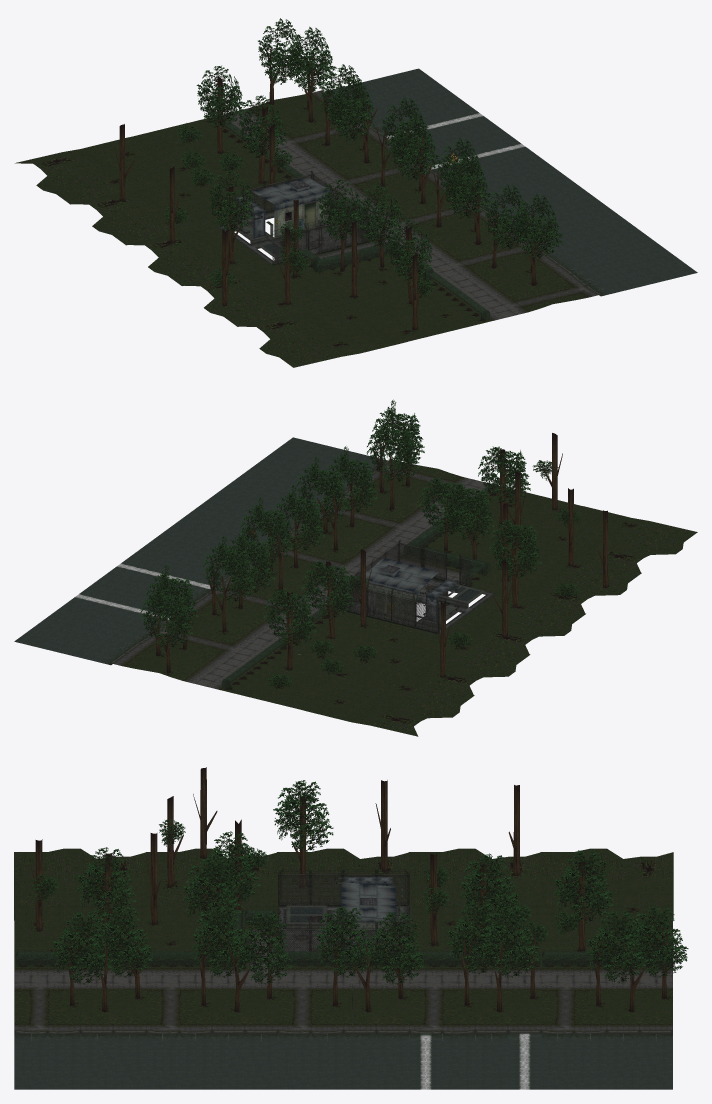
The model's file is THRF9FD.glb.
The picture shows the model from 3 angles, top to bottom: view 1: azimuth 30°, elevation 25°; view 2: azimuth 150°, elevation 25°; view 3: azimuth 270°, elevation 25°; orthographic projection. The views are drawn at different scales.
Parts seen in each view (by area): view 1: 7206_1_H_m0, 7206_1_H#3_m0, 7206_1_H#1_m0, 7206_1_H#2_m0, THR0001_m0, THR0020_m0, 7207_1_B_m0, 7201_1_H_m0, THR0020#3_m0, THR0020#1_m0, THR0001#3_m0, 7201_1_H#1_m0 (+29 smaller); view 2: 7206_1_H#3_m0, 7206_1_H#2_m0, 7207_1_B_m0, 7206_1_H_m0, THR0001#3_m0, 7206_1_H#1_m0, 7201_1_H#1_m0, THR0020#4_m0, THR0020#1_m0, THR7202_m0, THR0001#2_m0, THR0001_m0 (+32 smaller); view 3: THR0001_m0, THR0001#1_m0, THR0002_m0, THR0001#2_m0, THR0001#3_m0, THR0020#3_m0, THR0020_m0, THR0020#1_m0, THR0020#4_m0, THR0020#2_m0, 7206_1_H#3_m0, 7206_1_H_m0 (+41 smaller).
Boxes of the visible parts, x1,y1,x2,y2 form: 7206_1_H_m0: (237, 300, 407, 367); 7206_1_H#3_m0: (15, 137, 183, 204); 7206_1_H#1_m0: (183, 263, 351, 326); 7206_1_H#2_m0: (71, 178, 240, 245); THR0001_m0: (548, 232, 697, 296); THR0020_m0: (449, 253, 600, 317); 7207_1_B_m0: (126, 219, 290, 285); 7201_1_H_m0: (352, 277, 503, 341); THR0020#3_m0: (283, 131, 432, 194); THR0020#1_m0: (393, 213, 544, 276); THR0001#3_m0: (325, 68, 473, 132); 7201_1_H#1_m0: (129, 114, 280, 177); 7206_1_H#3_m0: (304, 669, 474, 736); 7206_1_H#2_m0: (359, 629, 530, 695); 7207_1_B_m0: (416, 586, 585, 654); 7206_1_H_m0: (532, 506, 697, 572); THR0001#3_m0: (14, 600, 163, 665); 7206_1_H#1_m0: (472, 548, 641, 613); 7201_1_H#1_m0: (208, 646, 359, 710); THR0020#4_m0: (111, 623, 263, 686); THR0020#1_m0: (282, 501, 429, 564); THR7202_m0: (263, 607, 415, 669); THR0001#2_m0: (126, 519, 275, 582); THR0001_m0: (237, 437, 387, 500); THR0001_m0: (14, 1033, 146, 1089); THR0001#1_m0: (146, 1033, 278, 1089); THR0002_m0: (409, 1033, 541, 1089); THR0001#2_m0: (277, 1033, 409, 1089); THR0001#3_m0: (540, 1033, 672, 1089); THR0020#3_m0: (409, 975, 541, 1033); THR0020_m0: (14, 975, 146, 1033); THR0020#1_m0: (146, 975, 278, 1033); THR0020#4_m0: (540, 975, 672, 1033); THR0020#2_m0: (277, 975, 409, 1033); 7206_1_H#3_m0: (540, 848, 673, 920); 7206_1_H_m0: (14, 848, 147, 920).
Size of the model in its own units: 34.02 by 9.36 by 41.59.
Materials: 29 (29 with a texture image).
